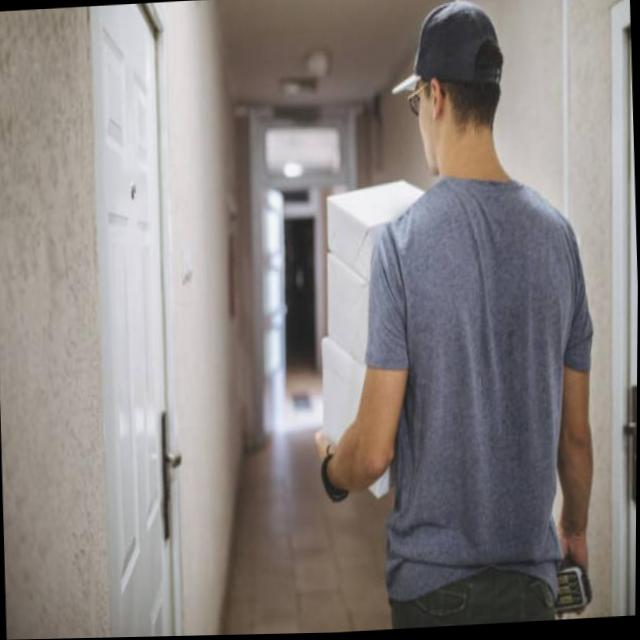no helmet: (385, 0, 521, 206)
